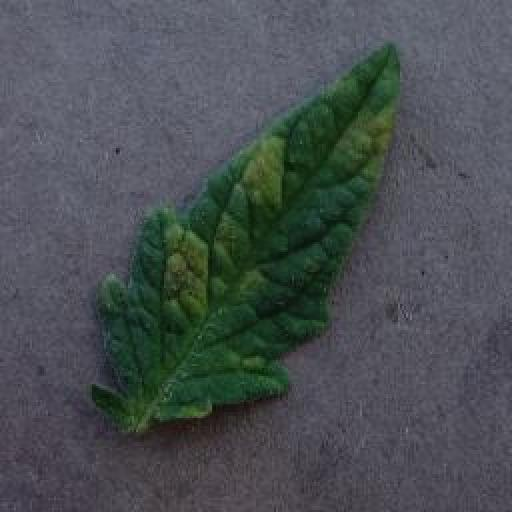disease_tomato: (88, 41, 398, 423)
